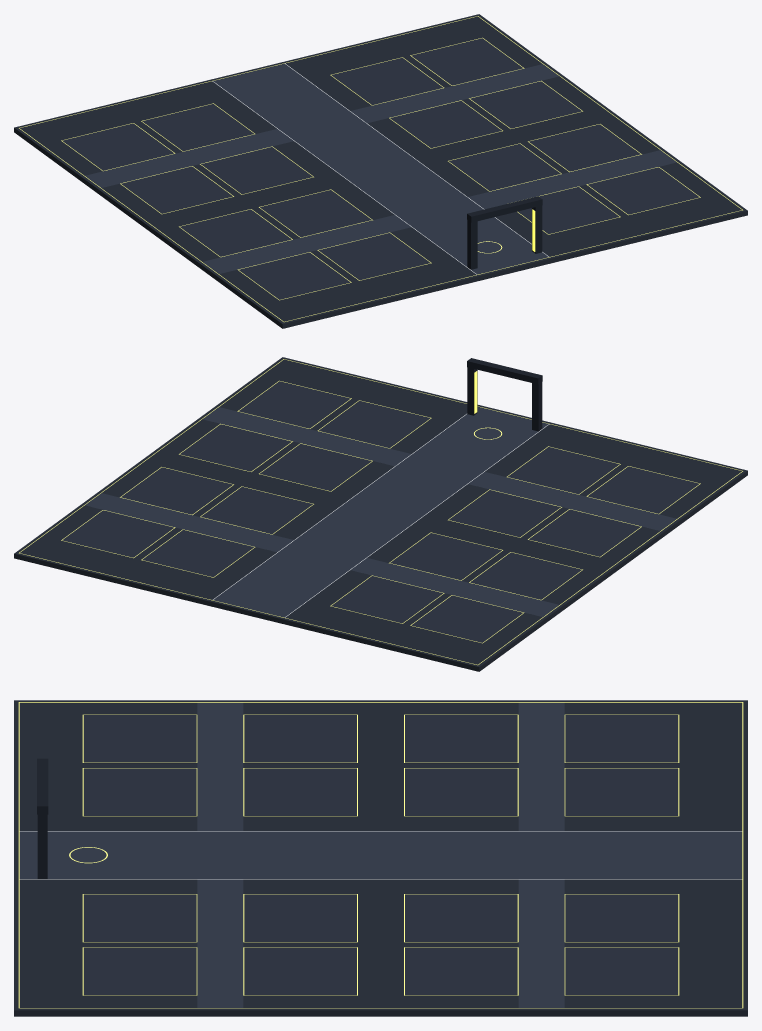
3 views of the same model, one above another, from view 1: azimuth 30°, elevation 25°; view 2: azimuth 150°, elevation 25°; view 3: azimuth 270°, elevation 25° (orthographic). The views are drawn at different scales.
Visible parts, largest first — view 1: district_taller.lod1; view 2: district_taller.lod1; view 3: district_taller.lod1.
Part boxes in pixels (<box>): district_taller.lod1: <box>14,14,747,328</box>; district_taller.lod1: <box>14,357,747,671</box>; district_taller.lod1: <box>14,700,747,1016</box>.
Bounding box in the file's own units: 64 × 7.62 × 64.
